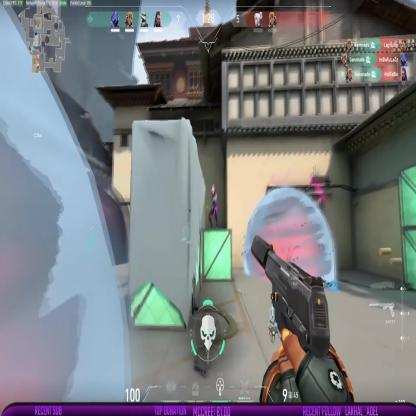enemy: (208, 184, 218, 230)
enemy_head: (211, 184, 215, 194)
